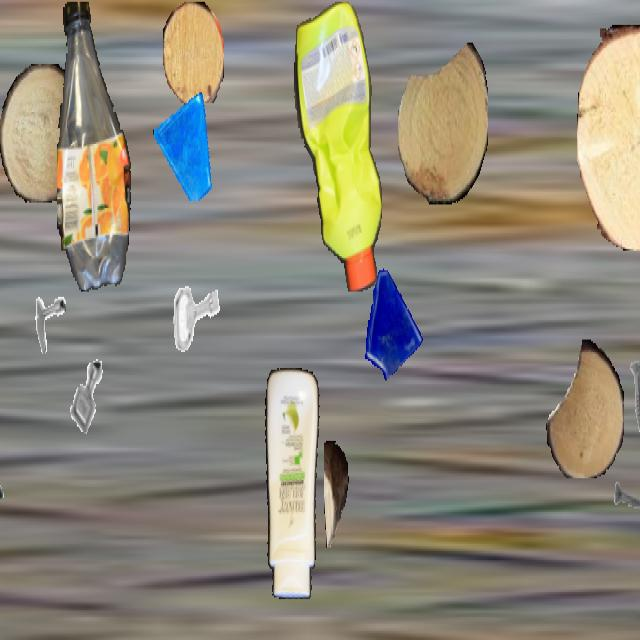glass: (359, 263, 425, 381), (153, 89, 215, 199)
metal: (165, 263, 225, 370), (59, 347, 115, 446), (24, 277, 66, 352), (613, 459, 640, 533), (617, 359, 640, 434), (0, 450, 12, 542)
plastic: (293, 2, 383, 290), (57, 2, 133, 290), (258, 368, 322, 599)
wood: (398, 41, 488, 204), (577, 25, 640, 249), (0, 64, 82, 203), (546, 340, 624, 478), (163, 2, 223, 105), (324, 441, 348, 547)
